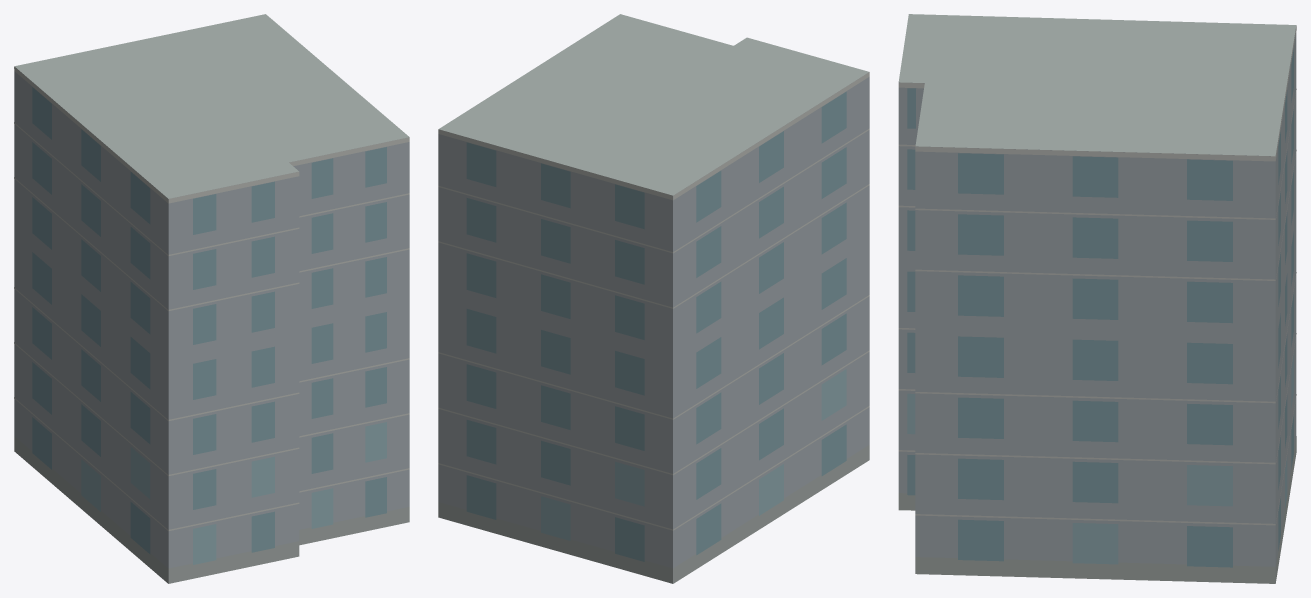
The model's file is survey-upis-32761357.glb.
3 views of the same model, side by side, from view 1: azimuth 30°, elevation 25°; view 2: azimuth 150°, elevation 25°; view 3: azimuth 270°, elevation 25° (orthographic). The views are drawn at different scales.
Parts seen in each view (by area): view 1: survey-upis-32761357.tmp; view 2: survey-upis-32761357.tmp; view 3: survey-upis-32761357.tmp.
Part boxes in pixels (x1,y1,x2,y2): survey-upis-32761357.tmp: (14,14,409,583); survey-upis-32761357.tmp: (438,14,869,583); survey-upis-32761357.tmp: (898,14,1296,583).
Size of the model in its own units: 14.26 by 19.95 by 16.85.
